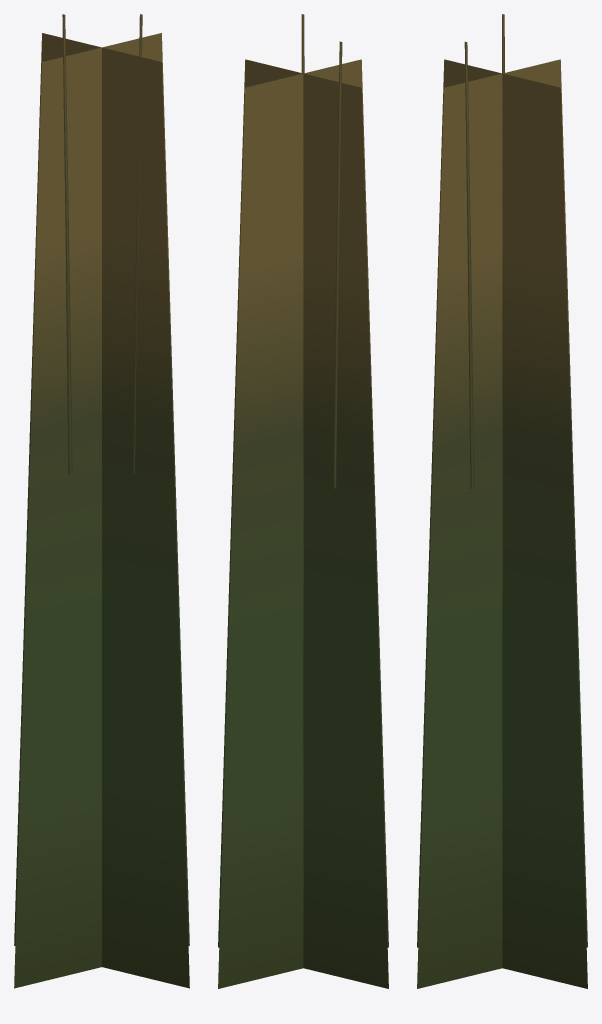
Rendered from Grass_Bottlebrush.glb.
3 renders of one model, left to right at view 1: azimuth 30°, elevation 25°; view 2: azimuth 150°, elevation 25°; view 3: azimuth 270°, elevation 25°, orthographic. The views are drawn at different scales.
Visible parts, largest first — view 1: Grass_Bottlebrush; view 2: Grass_Bottlebrush; view 3: Grass_Bottlebrush.
Part boxes in pixels (x1,y1,x2,y2): Grass_Bottlebrush: (14,14,189,988); Grass_Bottlebrush: (218,14,388,988); Grass_Bottlebrush: (417,14,587,988).
Bounding box in the file's own units: 0.22 × 1.15 × 0.1905.
